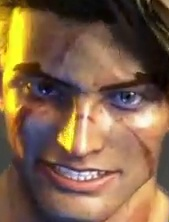kevin: (9, 14, 165, 221)
